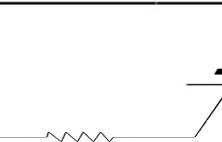resistor: (42, 124, 120, 141)
